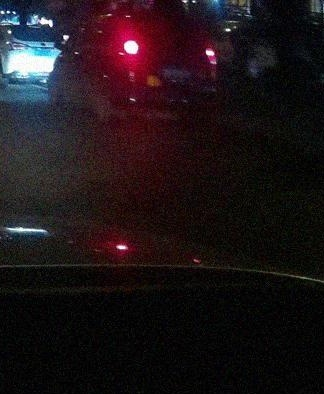L_light: (120, 40, 146, 55)
R_light: (205, 47, 218, 67)
T_light: (157, 21, 171, 26)
night-left: (109, 13, 220, 126)
